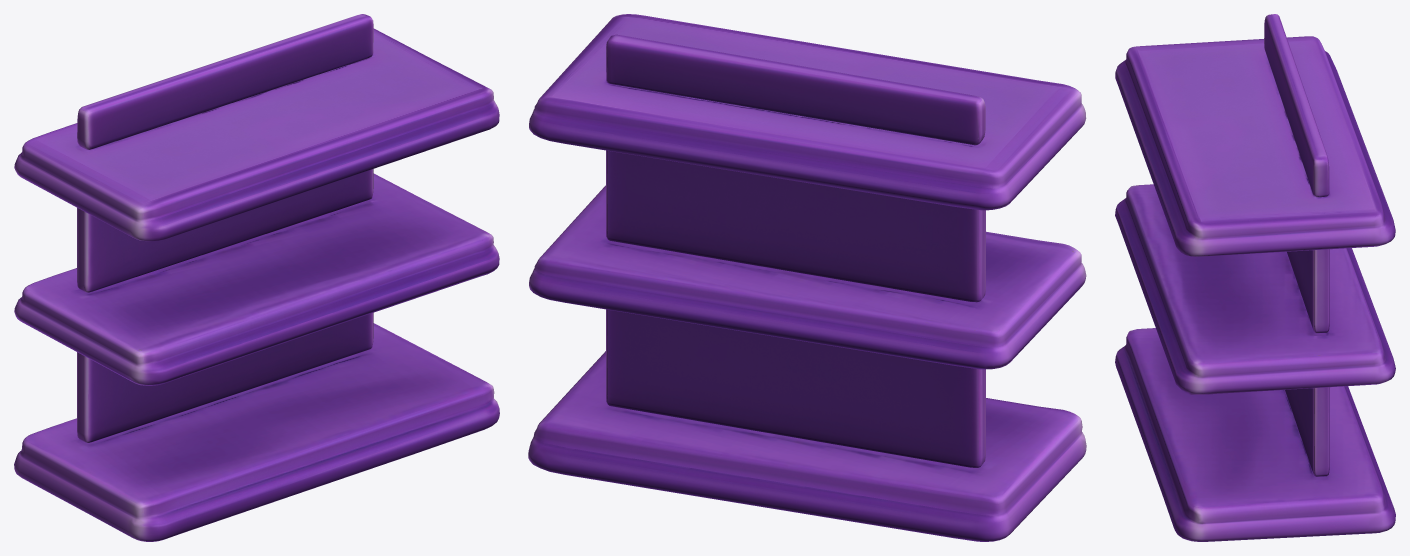
File: PurpleShelf_1.fbx
3 views of the same model, side by side, from view 1: azimuth 30°, elevation 25°; view 2: azimuth 150°, elevation 25°; view 3: azimuth 270°, elevation 25° (orthographic). The views are drawn at different scales.
Visible parts, largest first — view 1: PurpleShelf_1; view 2: PurpleShelf_1; view 3: PurpleShelf_1.
Part boxes in pixels (box(x1,y1,x2,y2)): PurpleShelf_1: box(14, 14, 499, 541); PurpleShelf_1: box(528, 14, 1086, 541); PurpleShelf_1: box(1115, 14, 1395, 541).
Size of the model in its own units: 99.95 by 60.11 by 84.52.
